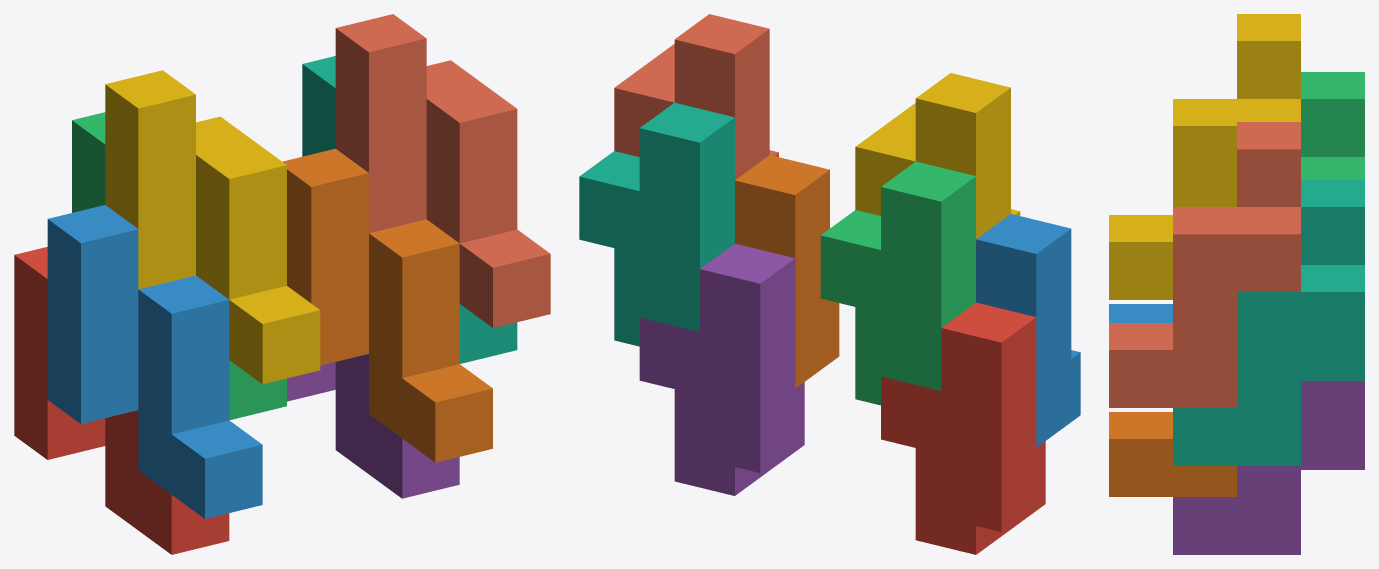
File: tiling.obj
3 views of the same model, side by side, from view 1: azimuth 30°, elevation 25°; view 2: azimuth 150°, elevation 25°; view 3: azimuth 270°, elevation 25° (orthographic). The views are drawn at different scales.
Visible parts, largest first — view 1: copy_1_domain_2, copy_1_domain_8, copy_1_domain_4, copy_1_domain_6, copy_1_domain_1, copy_1_domain_5, copy_1_domain_7, copy_1_domain_3; view 2: copy_1_domain_5, copy_1_domain_1, copy_1_domain_3, copy_1_domain_7, copy_1_domain_8, copy_1_domain_4, copy_1_domain_2, copy_1_domain_6; view 3: copy_1_domain_8, copy_1_domain_7, copy_1_domain_4, copy_1_domain_5, copy_1_domain_6, copy_1_domain_3, copy_1_domain_2.
Part boxes in pixels (x1,y1,x2,y2): copy_1_domain_2: (47, 205, 262, 518); copy_1_domain_8: (335, 14, 550, 327); copy_1_domain_4: (105, 70, 320, 384); copy_1_domain_6: (282, 148, 492, 462); copy_1_domain_1: (14, 247, 229, 554); copy_1_domain_5: (287, 354, 459, 498); copy_1_domain_7: (302, 56, 517, 363); copy_1_domain_3: (72, 112, 286, 420); copy_1_domain_5: (639, 243, 804, 495); copy_1_domain_1: (881, 302, 1045, 554); copy_1_domain_3: (820, 161, 975, 405); copy_1_domain_7: (579, 102, 734, 346); copy_1_domain_8: (614, 14, 778, 179); copy_1_domain_4: (855, 73, 1020, 238); copy_1_domain_2: (976, 214, 1080, 447); copy_1_domain_6: (735, 155, 839, 388); copy_1_domain_8: (1109, 122, 1300, 407); copy_1_domain_7: (1173, 180, 1364, 465); copy_1_domain_4: (1109, 14, 1300, 299); copy_1_domain_5: (1173, 381, 1364, 554); copy_1_domain_6: (1109, 412, 1236, 496); copy_1_domain_3: (1301, 72, 1364, 179); copy_1_domain_2: (1109, 304, 1172, 322).
Size of the model in its own units: 7 by 7 by 4.
